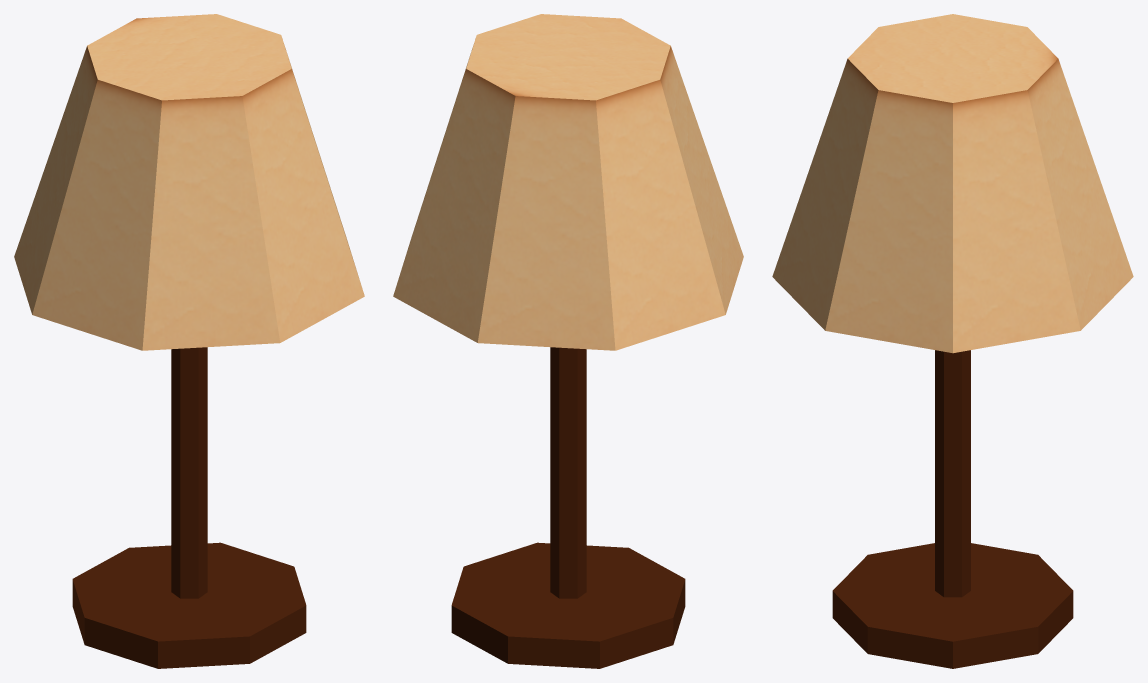
The model's file is Lamp_Table.fbx.
3 views of the same model, side by side, from view 1: azimuth 30°, elevation 25°; view 2: azimuth 150°, elevation 25°; view 3: azimuth 270°, elevation 25° (orthographic).
Parts seen in each view (by area): view 1: Lamp_Table; view 2: Lamp_Table; view 3: Lamp_Table.
Boxes of the visible parts, <box> form: Lamp_Table: <box>14,14,364,668</box>; Lamp_Table: <box>393,14,743,668</box>; Lamp_Table: <box>772,14,1133,668</box>.
Bounding box in the file's own units: 0.24 × 0.41 × 0.24.
